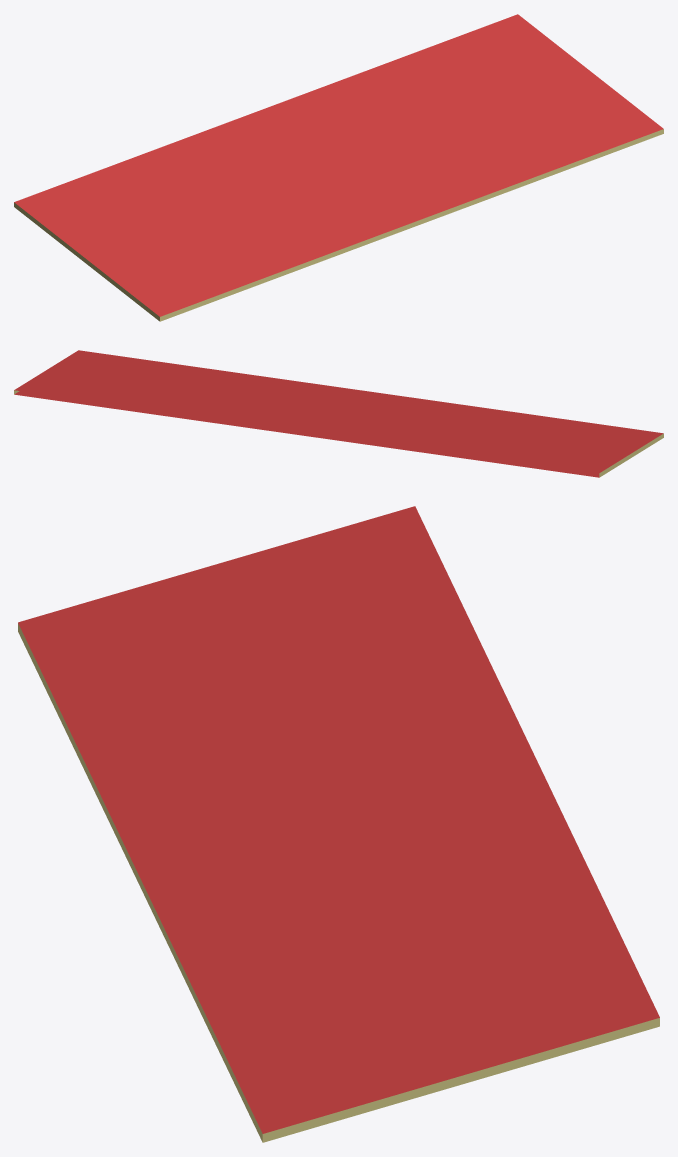
3 views of the same model, one above another, from view 1: azimuth 30°, elevation 25°; view 2: azimuth 150°, elevation 25°; view 3: azimuth 270°, elevation 25° (orthographic). The views are drawn at different scales.
Bounding box in the file's own units: 13.24 × 6.59 × 1.03.
